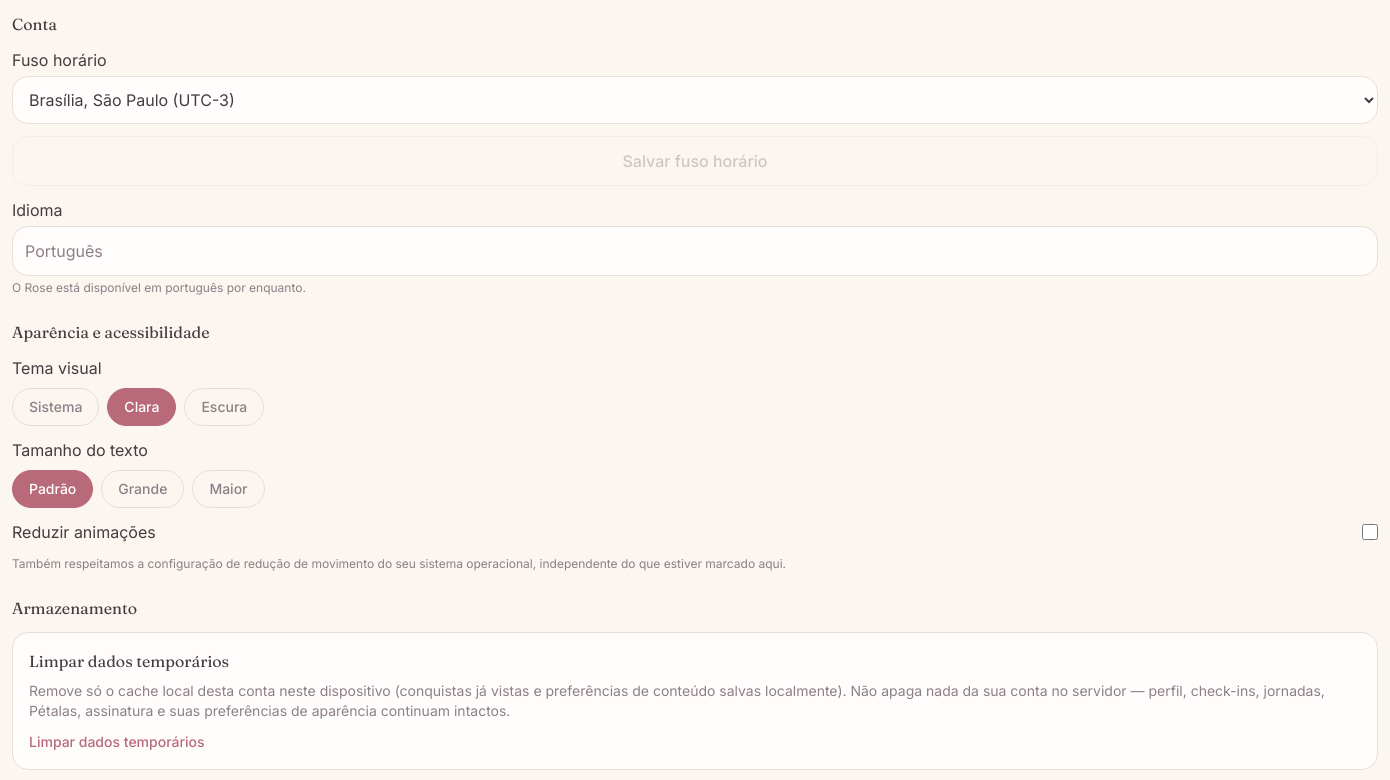
ConfiguracoesForm › o botão de salvar fuso fica desabilitado até o valor mudar
Expected: the button "Salvar fuso horário" is disabled, left=12, top=136, right=1378, bottom=186
Select "Lisboa e Portugal continental" in the dropdown labelled "Fuso horário" at (695, 100), box left=12, top=76, right=1378, bottom=124
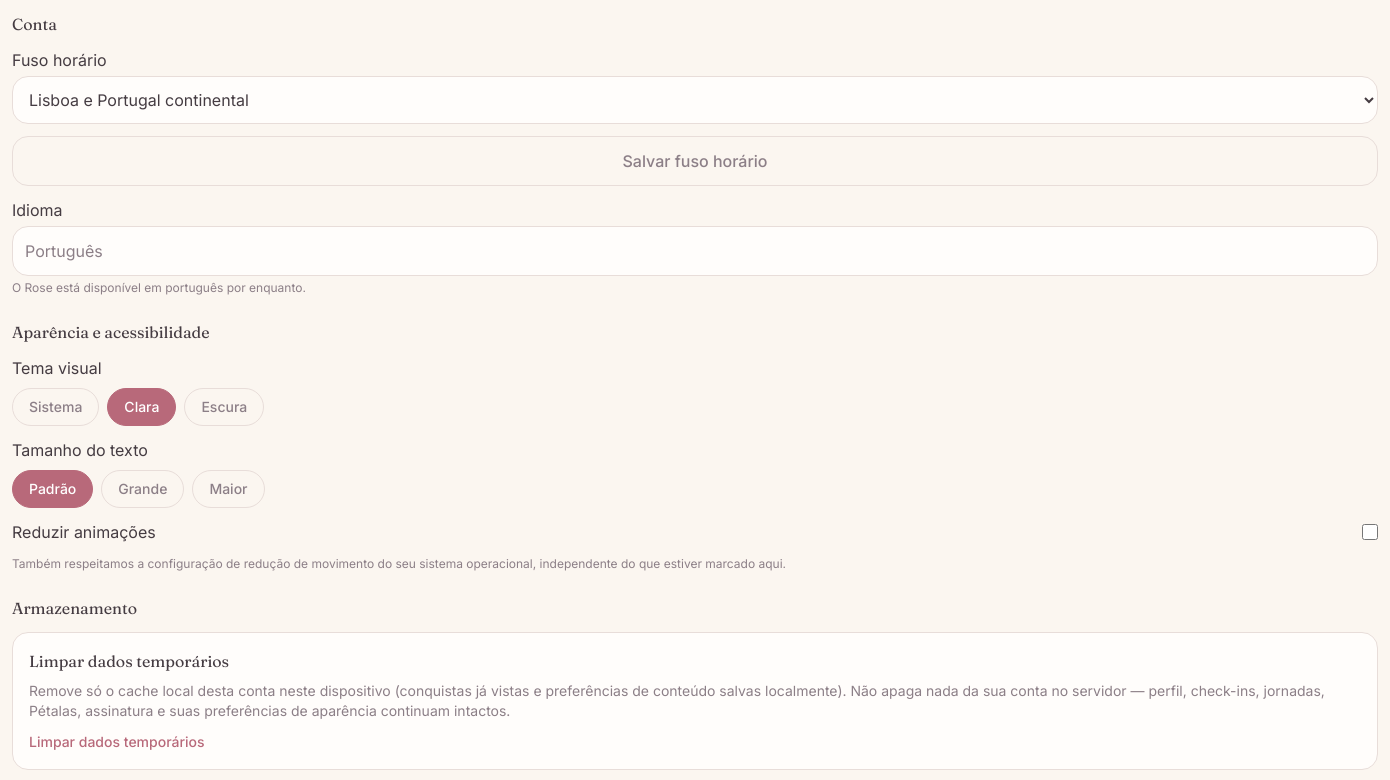
Result: the button "Salvar fuso horário" is enabled at left=12, top=136, right=1378, bottom=186
